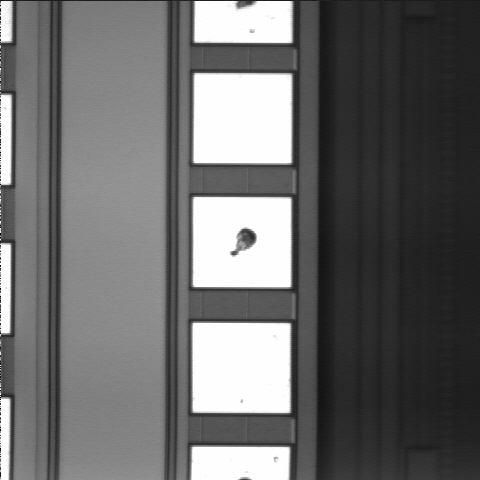pad: (194, 73, 292, 163), (193, 197, 291, 287), (193, 323, 290, 413)
